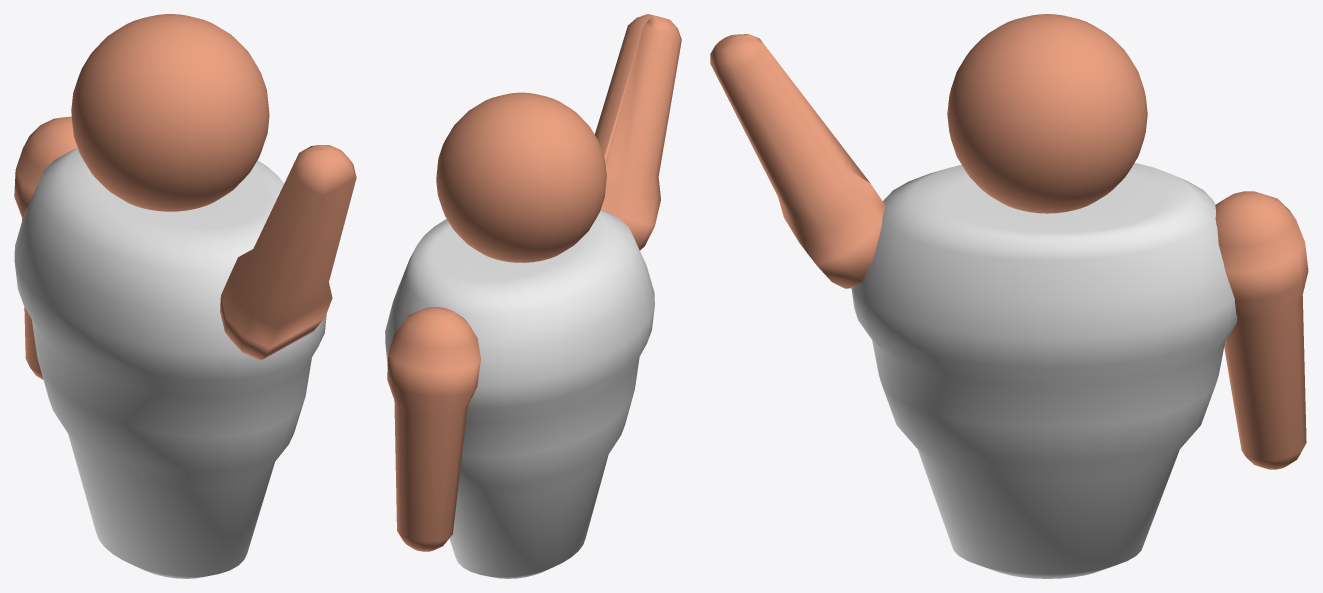
The model's file is test_npc_mesh.fbx.
3 renders of one model, left to right at view 1: azimuth 30°, elevation 25°; view 2: azimuth 150°, elevation 25°; view 3: azimuth 270°, elevation 25°, orthographic. The views are drawn at different scales.
Parts seen in each view (by area): view 1: npc; view 2: npc; view 3: npc.
Part boxes in pixels (<box>): npc: <box>14,14,356,578</box>; npc: <box>385,14,681,578</box>; npc: <box>710,14,1308,578</box>.
Size of the model in its own units: 167 by 351 by 348.
